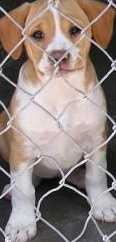Dog: (0, 0, 115, 198)
